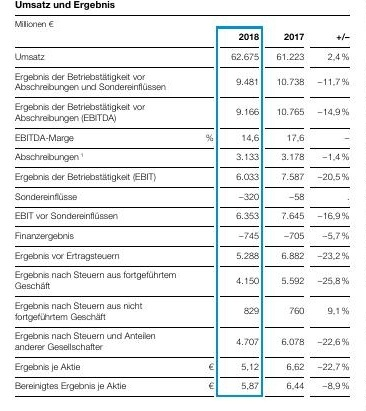table: (0, 0, 366, 411)
